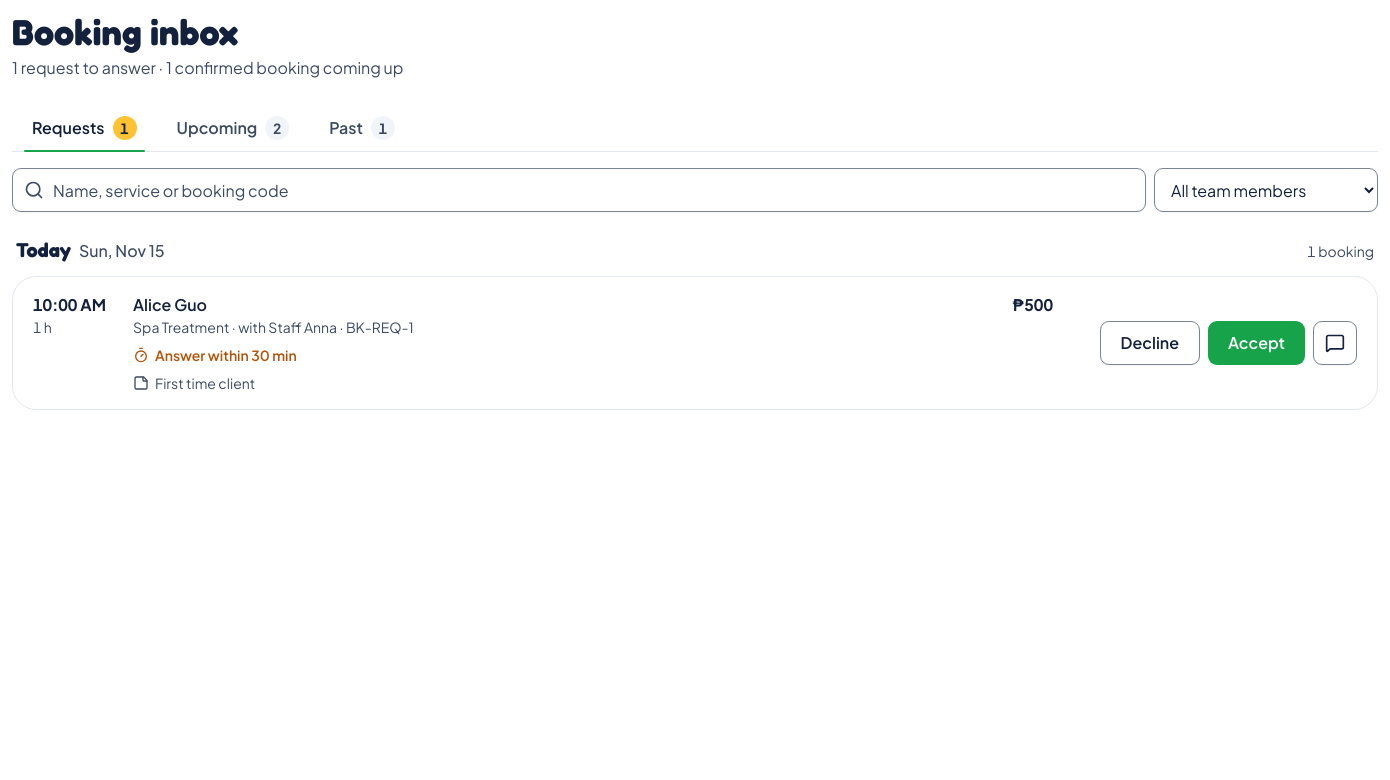
Test: BookingInbox › puts confirmed bookings from before today first, to be marked
Click the tab "Upcoming 2": [233, 128] box 157,104 -> 309,152
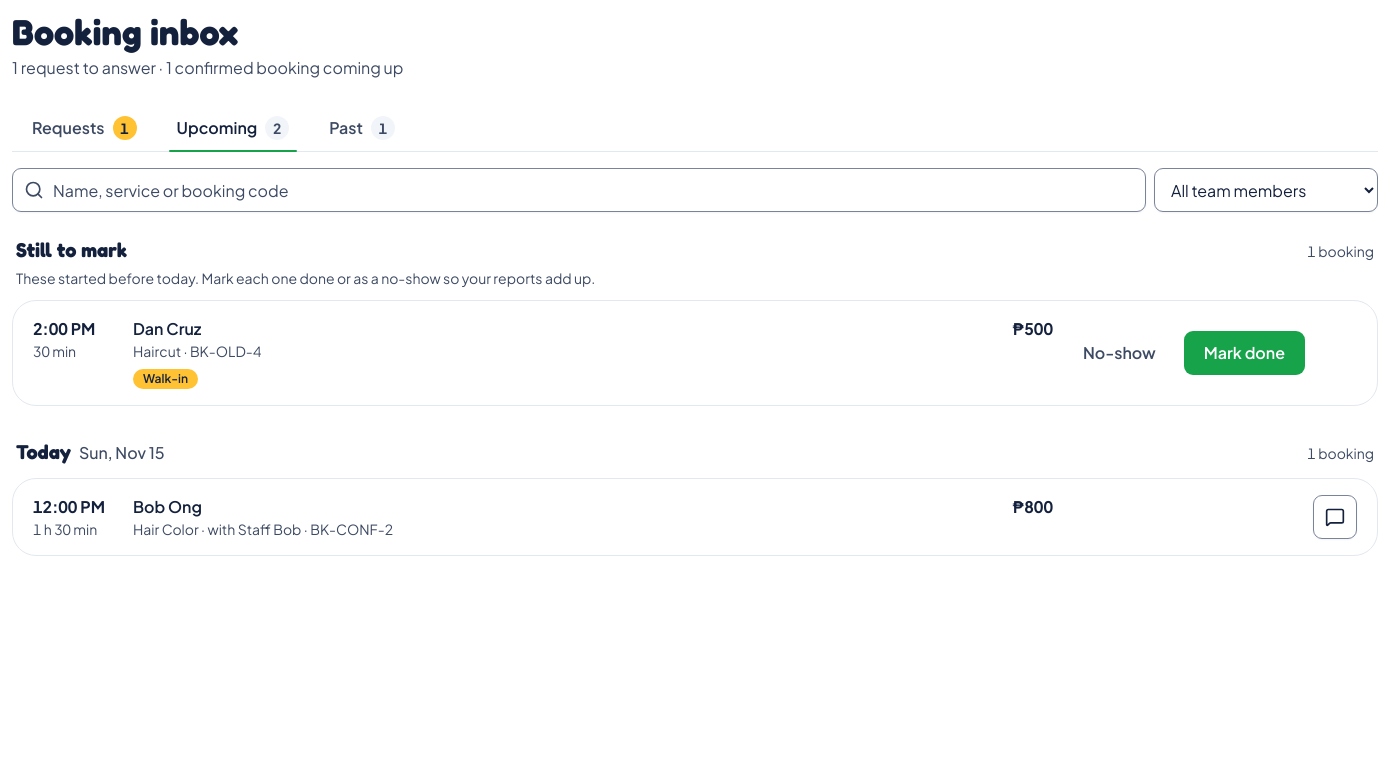
Now the headings read "Still to mark", "TodaySun, Nov 15", in this order, box 16,236 -> 127,264; 16,438 -> 165,466
Now the text "Dan Cruz" is shown, box 133,317 -> 201,341
Now the text "Bob Ong" is shown, box 133,495 -> 202,519
